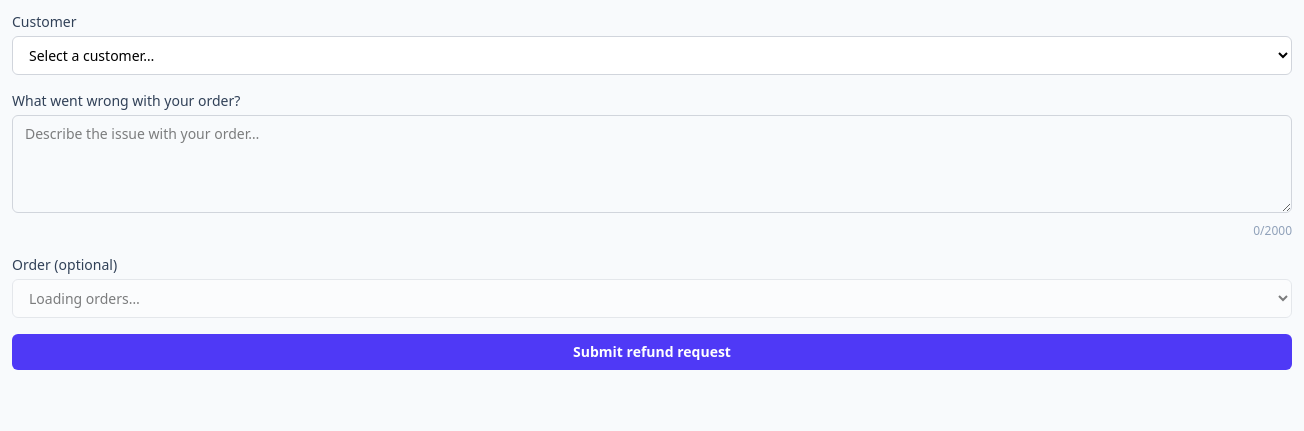
RequestForm › shows both inline errors and does not submit when invalid
This screenshot has width=1304, height=431.
Click the button "Submit refund request": coordinates (652, 352) [12,334,1292,370]
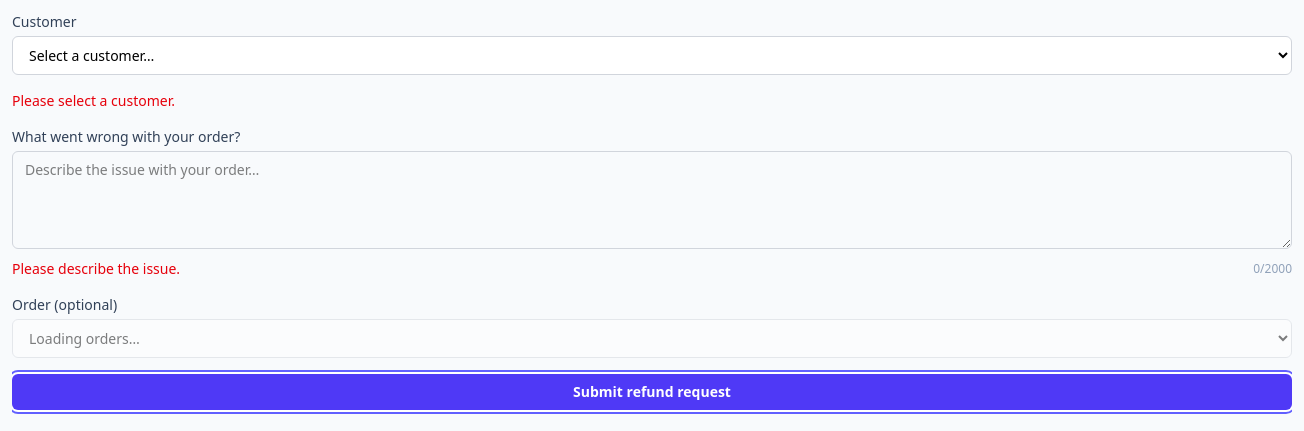
expect the number of messages is 2: met, box [12,91,175,110]; [12,259,180,279]
expect the message "Please select a customer." is shown: met, box [12,91,175,110]
expect the message "Please describe the issue." is shown: met, box [12,259,180,279]
